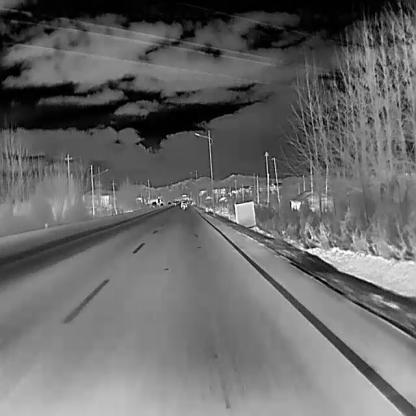car: (180, 199, 187, 208), (151, 201, 156, 207)
